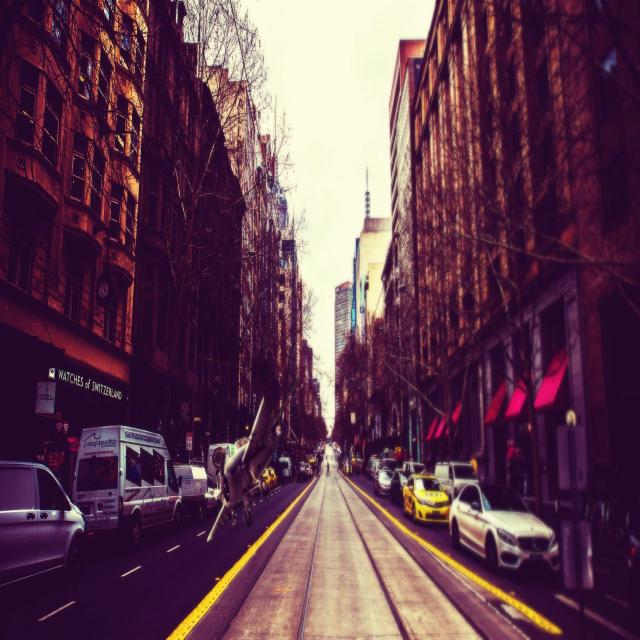airplane: (204, 373, 300, 543)
